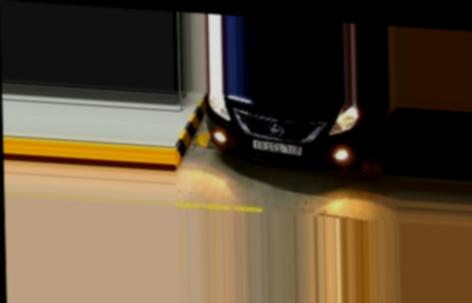License_Plate: (252, 137, 304, 155)
